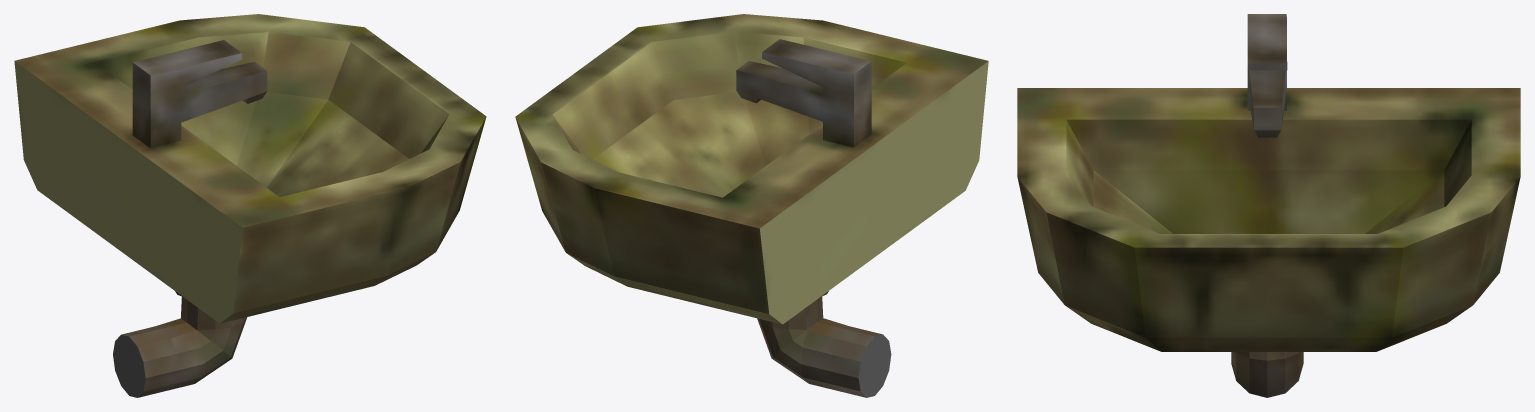
File: sink.obj
3 views of the same model, side by side, from view 1: azimuth 30°, elevation 25°; view 2: azimuth 150°, elevation 25°; view 3: azimuth 270°, elevation 25° (orthographic). The views are drawn at different scales.
Parts seen in each view (by area): view 1: sink; view 2: sink; view 3: sink.
Part boxes in pixels (bbox=[...]): sink: bbox=[14, 14, 486, 397]; sink: bbox=[515, 14, 988, 397]; sink: bbox=[1017, 14, 1520, 397].
Size of the model in its own units: 0.4507 by 0.47 by 0.6.
